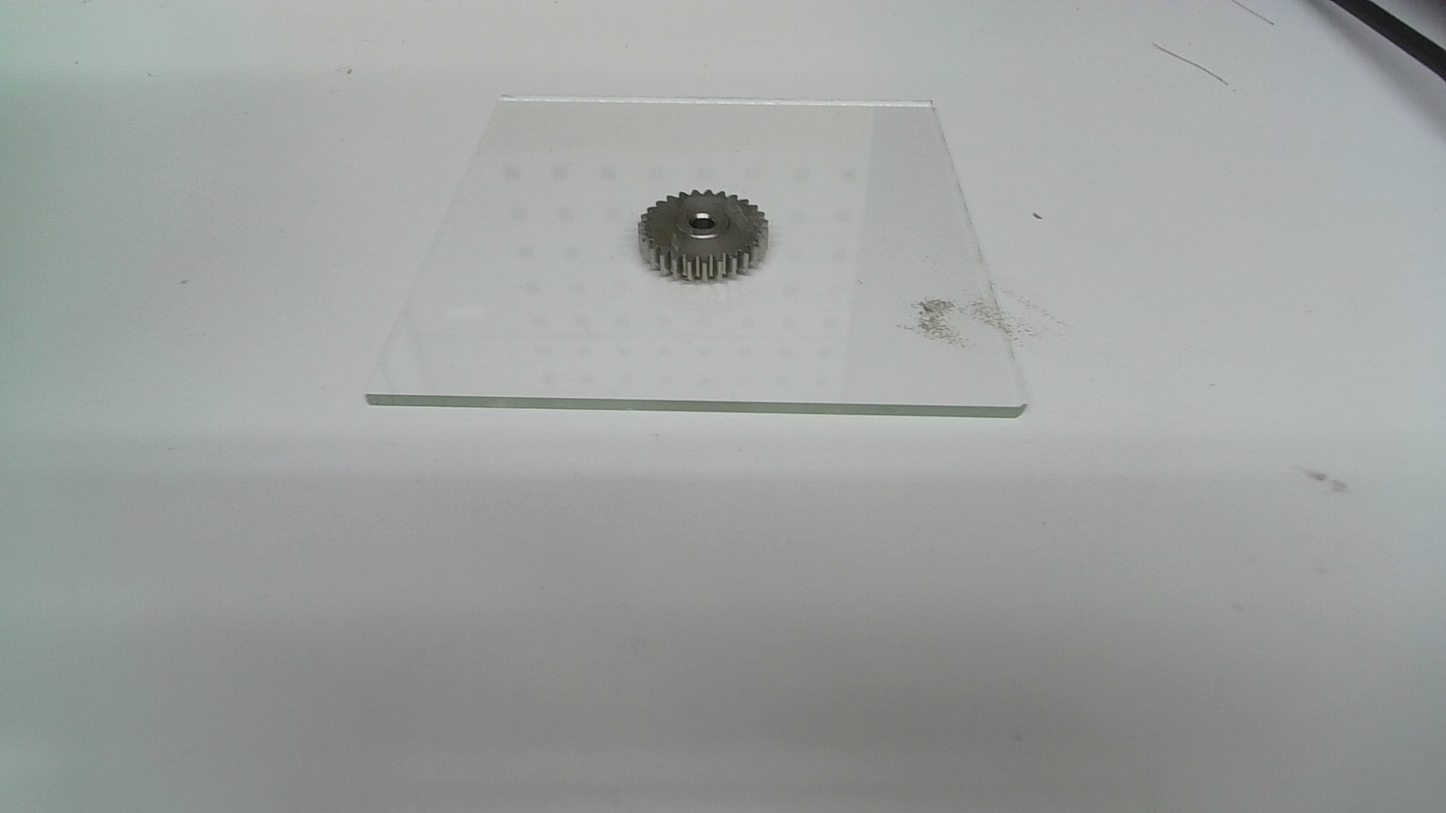gear: (635, 188, 773, 287)
